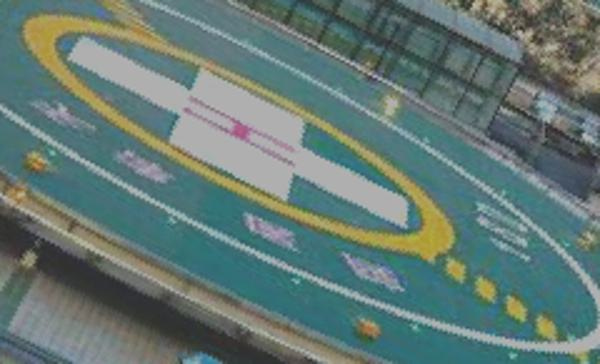Apron: (19, 8, 477, 263)
